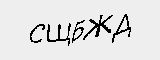Б: (70, 16, 87, 46)
Д: (110, 13, 137, 40)
Ж: (83, 12, 113, 43)
С: (27, 19, 47, 46)
Щ: (45, 22, 73, 47)
